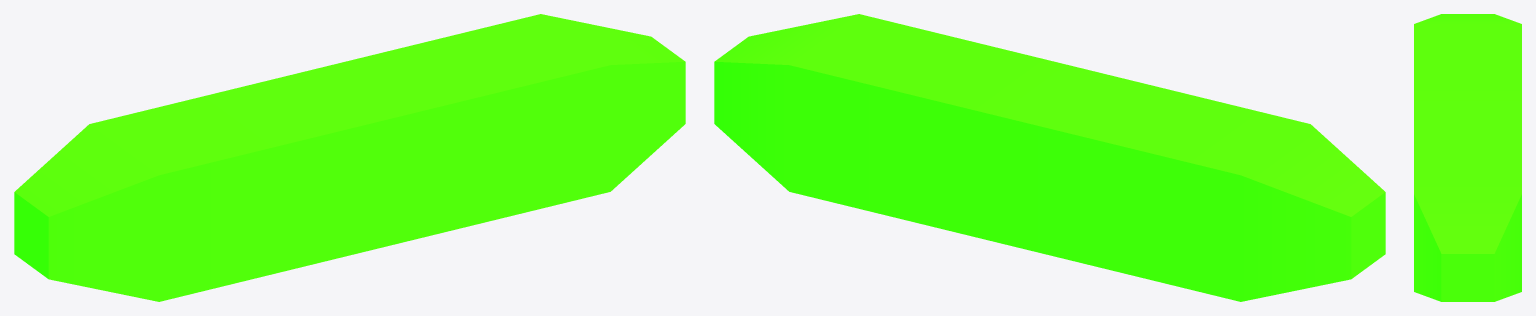
The model's file is PEWPEW_GREEN.fbx.
3 renders of one model, left to right at view 1: azimuth 30°, elevation 25°; view 2: azimuth 150°, elevation 25°; view 3: azimuth 270°, elevation 25°, orthographic. The views are drawn at different scales.
Visible parts, largest first — view 1: pCube1; view 2: pCube1; view 3: pCube1.
Part boxes in pixels (left/top/right/bottom): pCube1: left=14, top=14, right=685, bottom=301; pCube1: left=714, top=14, right=1385, bottom=301; pCube1: left=1414, top=14, right=1521, bottom=301.
Size of the model in its own units: 5.26 by 1 by 1.
